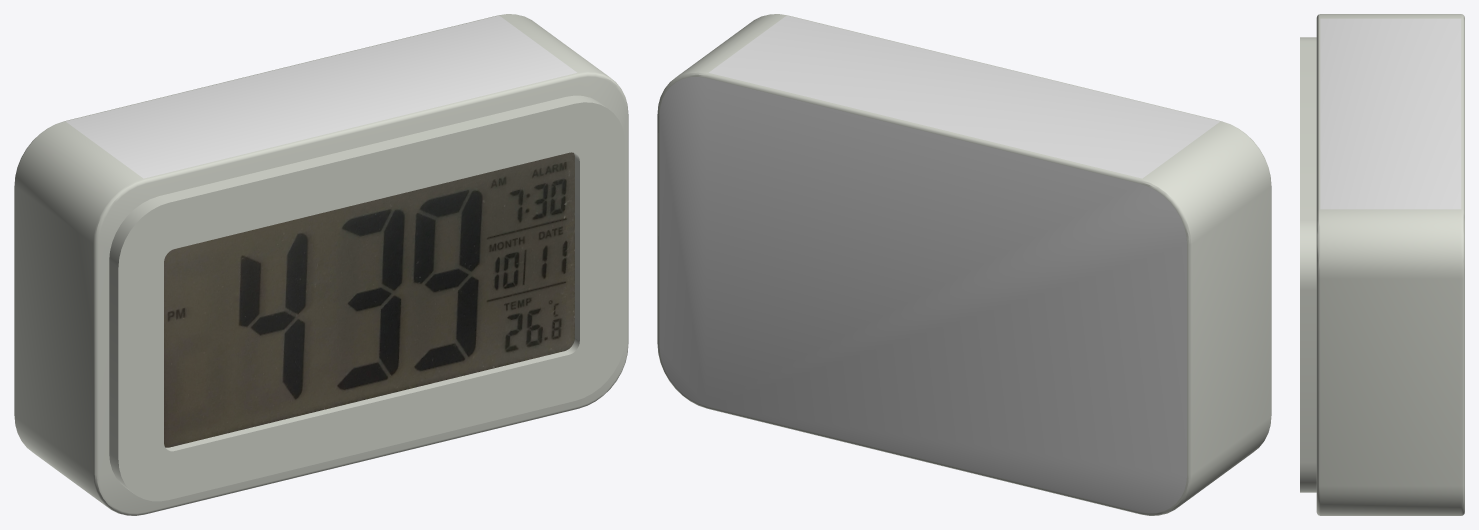
The model's file is RelojDigital.fbx.
3 renders of one model, left to right at view 1: azimuth 30°, elevation 25°; view 2: azimuth 150°, elevation 25°; view 3: azimuth 270°, elevation 25°, orthographic. The views are drawn at different scales.
Visible parts, largest first — view 1: Clock; view 2: Clock; view 3: Clock.
Part boxes in pixels (x1,y1,x2,y2): Clock: [14, 14, 628, 515]; Clock: [657, 14, 1271, 515]; Clock: [1300, 14, 1464, 515].
Size of the model in its own units: 15 by 9 by 4.45.
